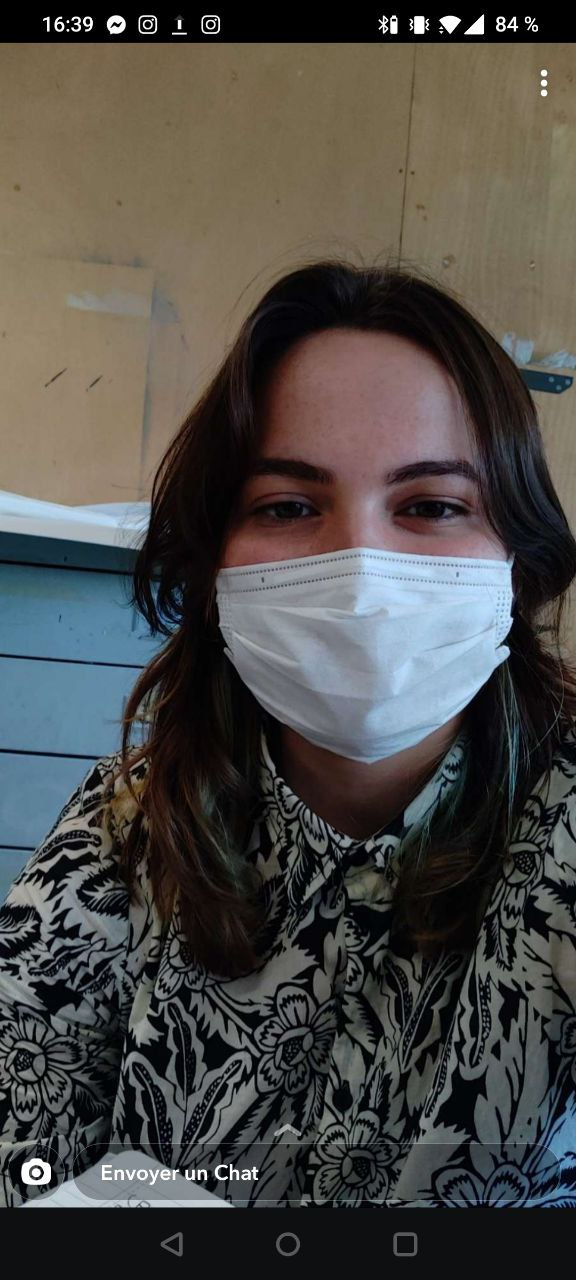with_mask: (160, 311, 535, 768)
